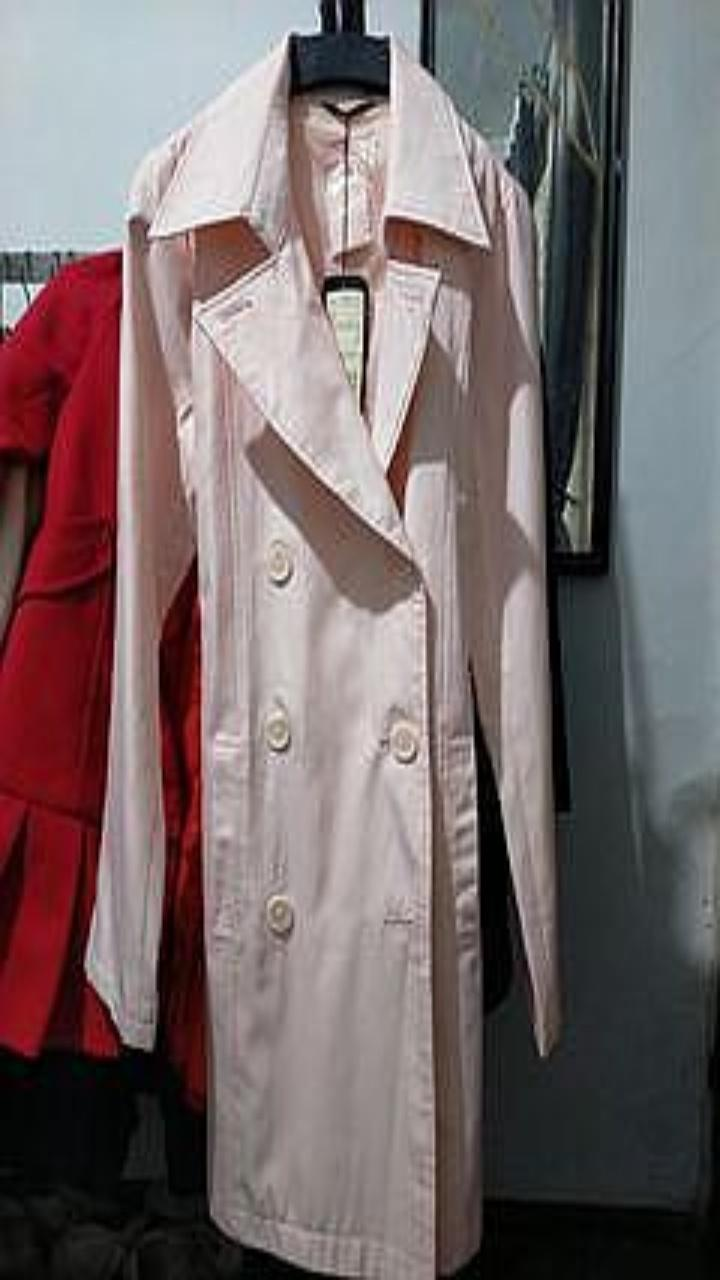Coat: (86, 35, 559, 1279), (0, 250, 121, 1058)
